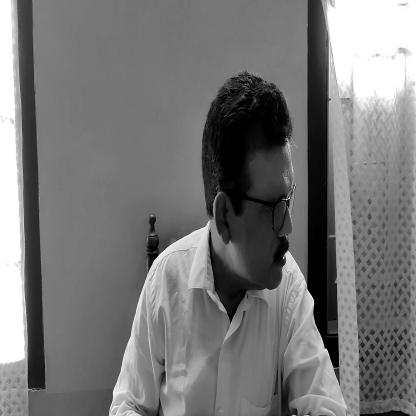Distracted: (198, 69, 294, 293)
